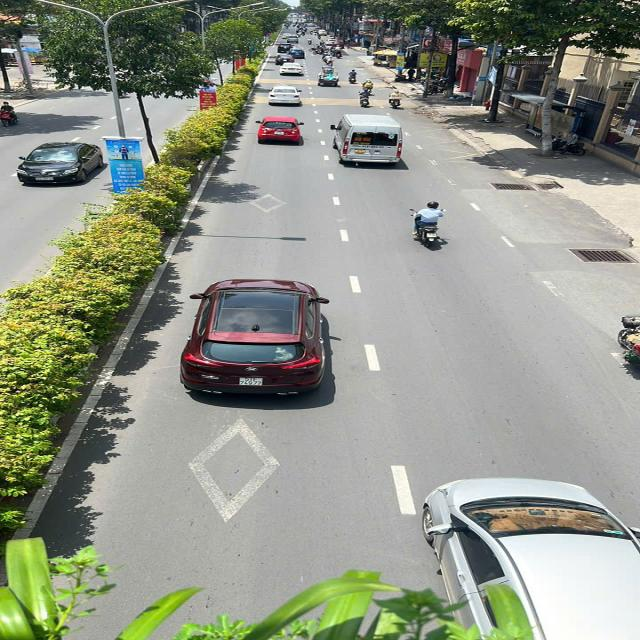car: (179, 276, 338, 402), (9, 137, 107, 189), (330, 113, 409, 167), (252, 116, 310, 146), (262, 84, 305, 108), (280, 62, 306, 76), (270, 52, 295, 65)
motobyte: (408, 198, 454, 252), (2, 100, 24, 132), (358, 87, 377, 109), (386, 90, 404, 109), (347, 65, 361, 86)
